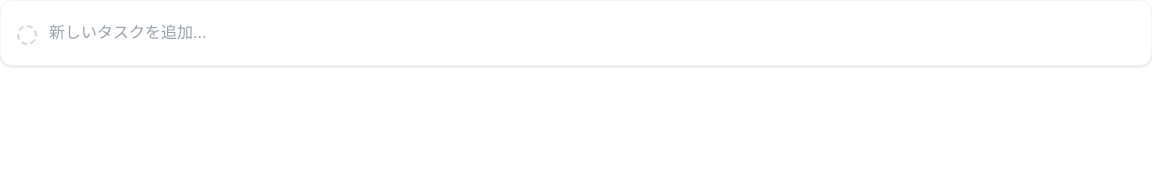
Test case: TodoForm › フォーカス時に説明欄とボタンが表示される
Click the field with placeholder "新しいタスクを追加...".
click(592, 33)  # box [49,17,1135,49]
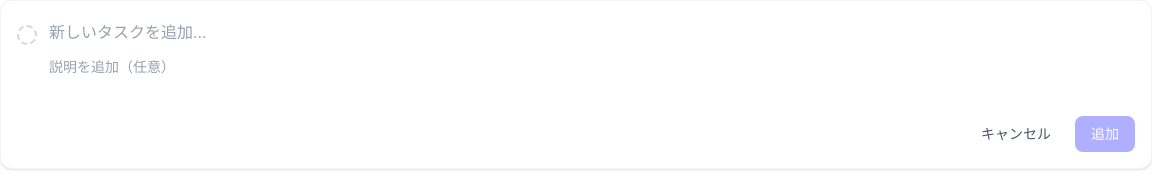
Expected: the text box with placeholder "説明を追加（任意）" is shown, [49,53,1135,101]
Expected: the button "キャンセル" is shown, [965,116,1067,152]
Expected: the button "追加" is shown, [1075,116,1135,152]
